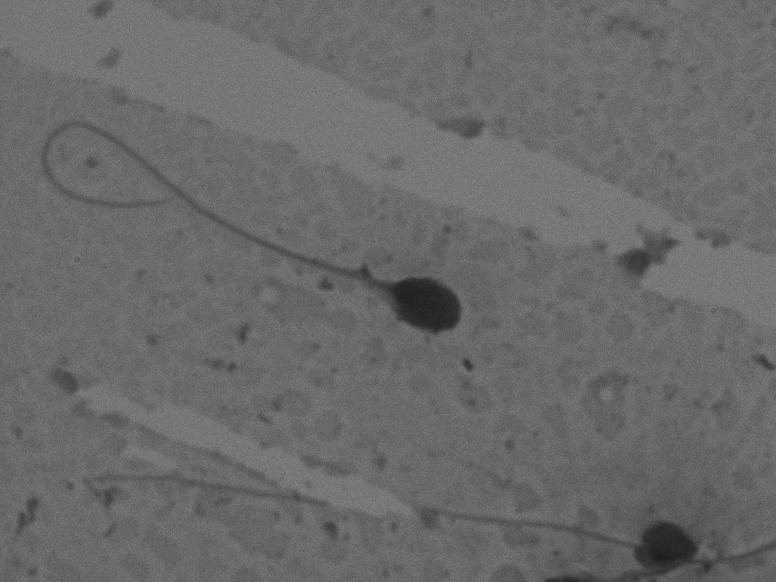Abnormal: (27, 91, 489, 362)
